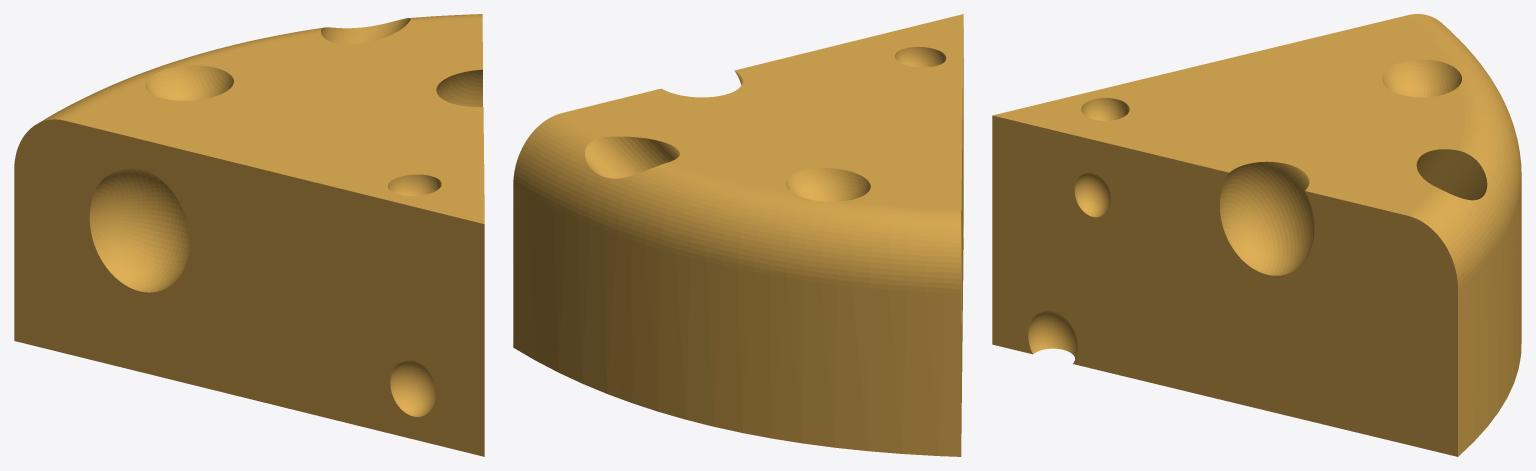
The model's file is cheese-v3.fbx.
The picture shows the model from 3 angles, left to right: view 1: azimuth 30°, elevation 25°; view 2: azimuth 150°, elevation 25°; view 3: azimuth 270°, elevation 25°; orthographic projection. The views are drawn at different scales.
Visible parts, largest first — view 1: cheese; view 2: cheese; view 3: cheese.
Part boxes in pixels (bbox=[...]): cheese: bbox=[14, 14, 484, 456]; cheese: bbox=[513, 14, 963, 456]; cheese: bbox=[992, 14, 1521, 456].
Bounding box in the file's own units: 253 × 120 × 251.
